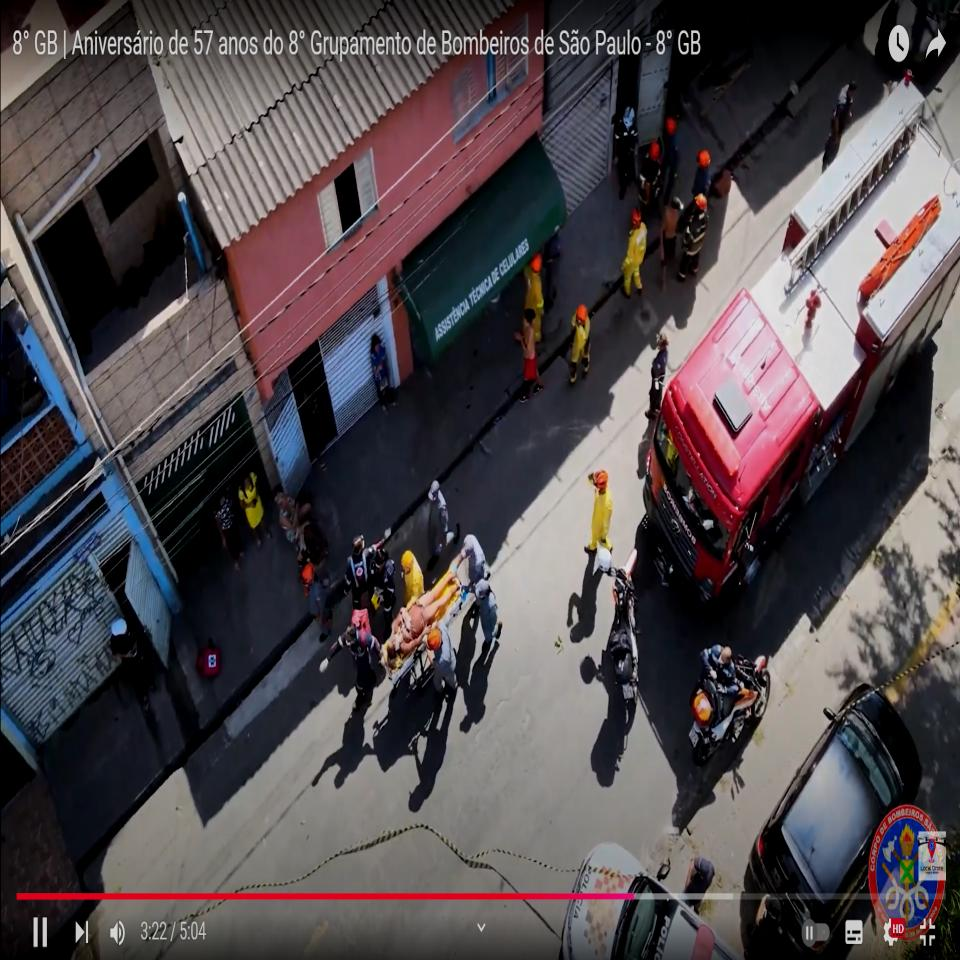bombeiro: (642, 68, 960, 614)
